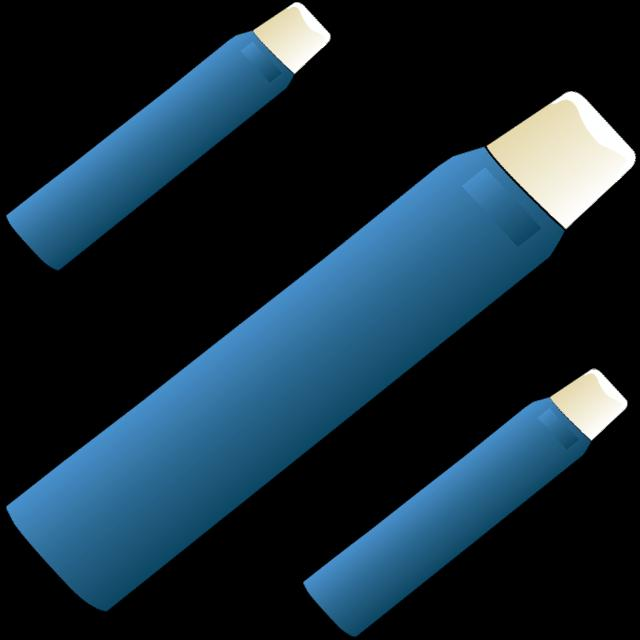blue_bottle: (0, 96, 633, 623), (0, 5, 336, 278), (295, 369, 627, 640)
